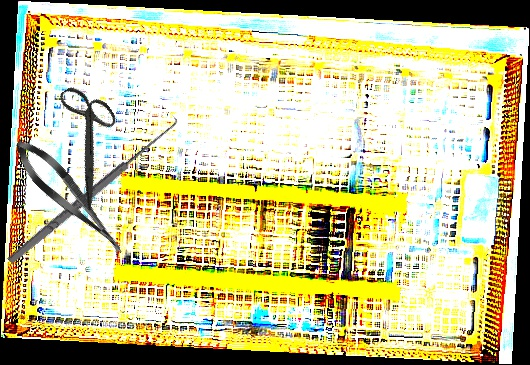Hook Surgical: (0, 110, 183, 267)
Iris Scissors: (24, 75, 152, 211)
Micro Scissor: (6, 131, 133, 264)
